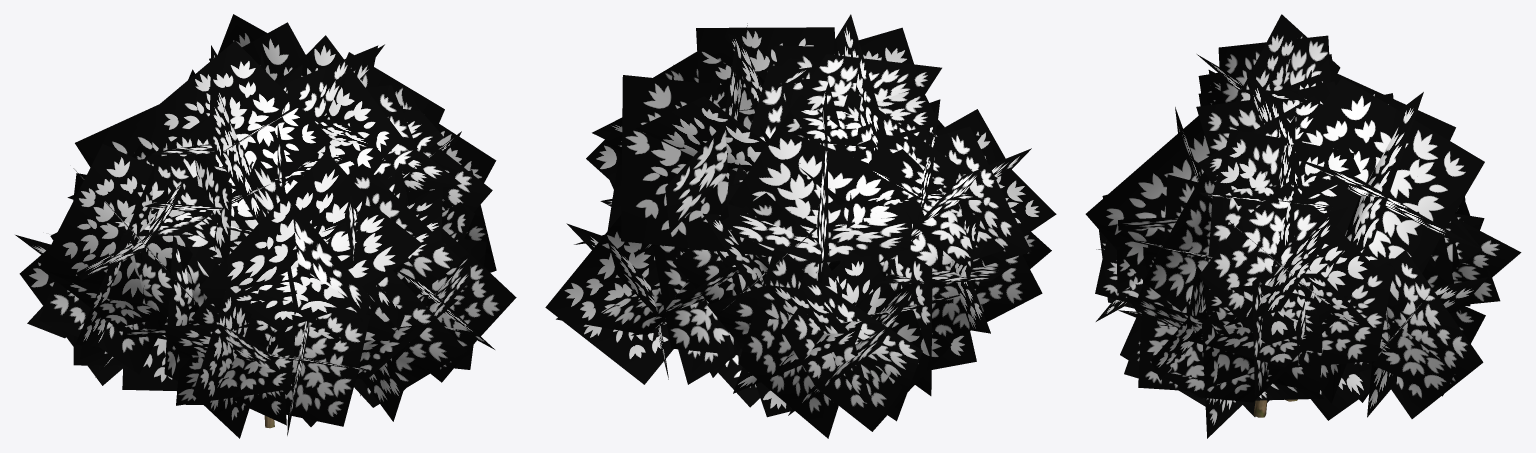
Rendered from P_Bush2_Snowy.obj.
3 renders of one model, left to right at view 1: azimuth 30°, elevation 25°; view 2: azimuth 150°, elevation 25°; view 3: azimuth 270°, elevation 25°, orthographic. The views are drawn at different scales.
Size of the model in its own units: 4.23 by 3.47 by 3.72.
